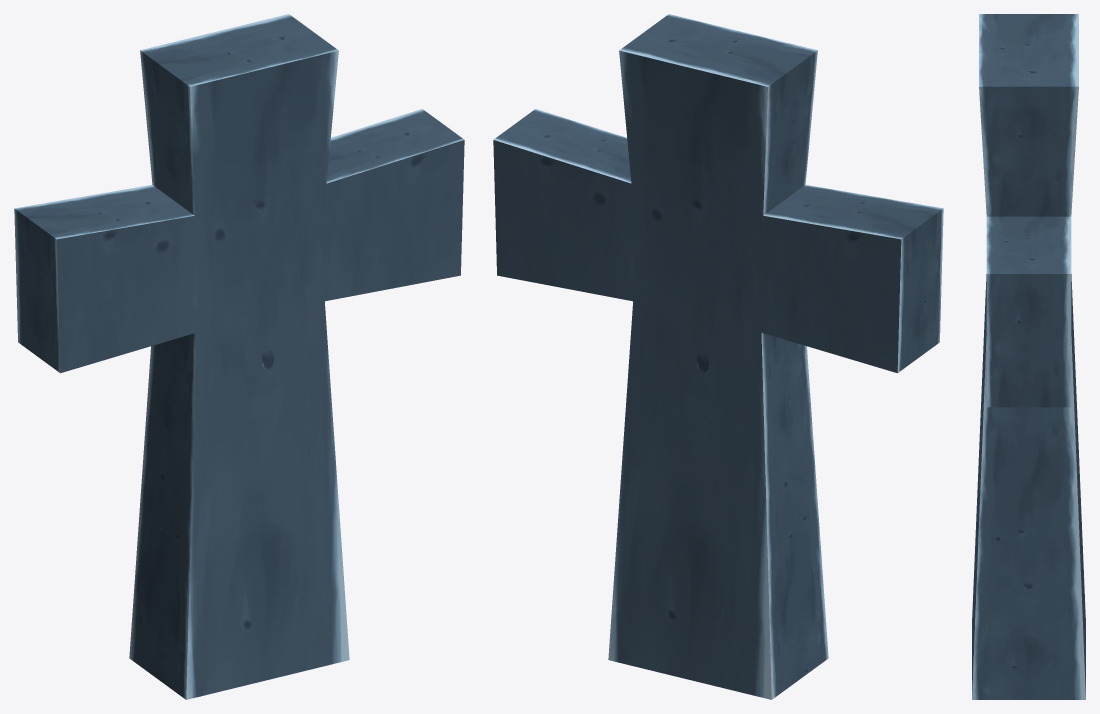
File: SM_PROP_gravestone_v13_01.fbx
3 views of the same model, side by side, from view 1: azimuth 30°, elevation 25°; view 2: azimuth 150°, elevation 25°; view 3: azimuth 270°, elevation 25° (orthographic).
Visible parts, largest first — view 1: SM_PROP_gravestone_v13_01; view 2: SM_PROP_gravestone_v13_01; view 3: SM_PROP_gravestone_v13_01.
Boxes of the visible parts, <box> form: SM_PROP_gravestone_v13_01: <box>14,14,464,699</box>; SM_PROP_gravestone_v13_01: <box>493,14,943,699</box>; SM_PROP_gravestone_v13_01: <box>972,14,1085,699</box>.
Bounding box in the file's own units: 89.87 × 128 × 21.69.
